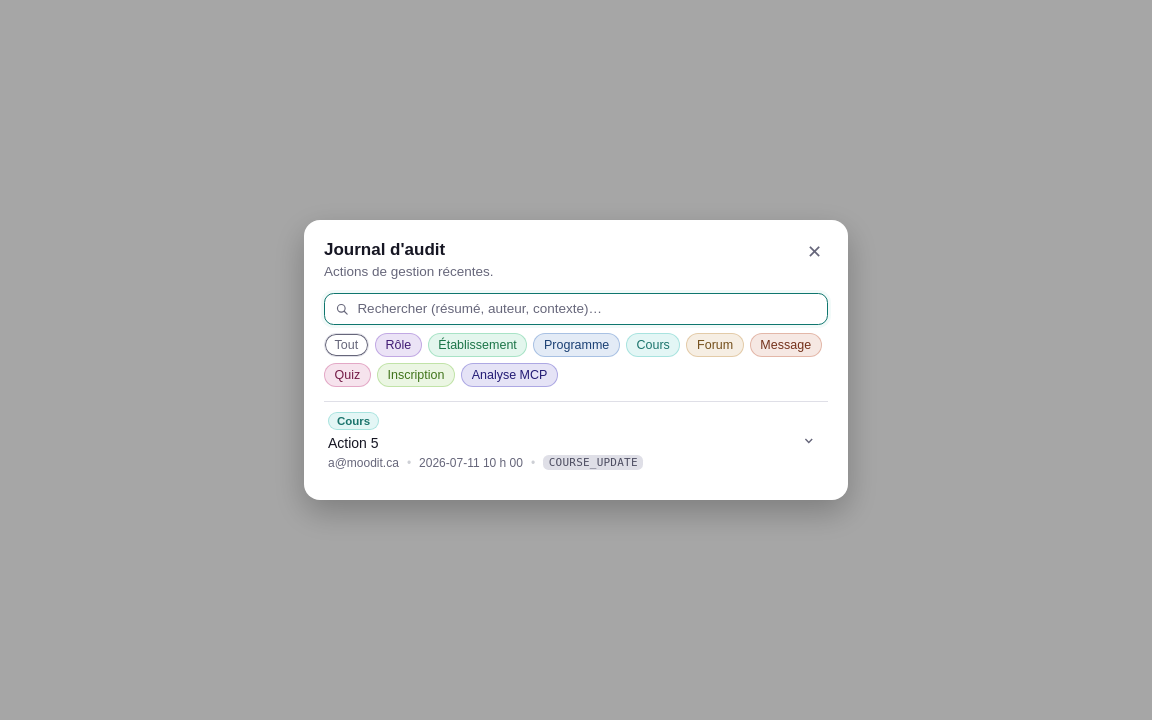
Test: AuditLogsPopup › cliquer une entrée déplie son contexte (details + identifiant)
The image size is (1152, 720).
Expected: the text "Action 5" is shown, [328,435,379,451]
Expected: the text "Programmes : Génie" is not shown
Click the button "Action 5". click: (354, 421)
box: [320,402,824,480]
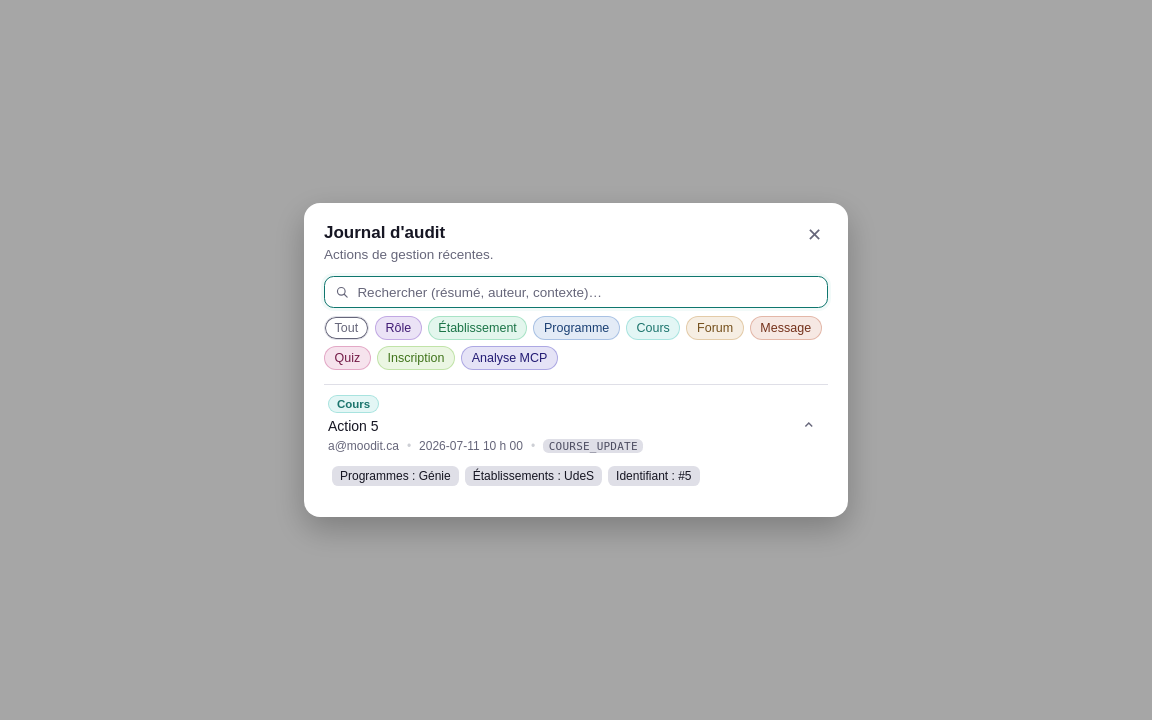
Expected: the text "Programmes : Génie" is shown, [332,466,459,486]
Expected: the text "Établissements : UdeS" is shown, [465,466,602,486]
Expected: the text "Identifiant : #5" is shown, [608,466,700,486]
Click the button "Action 5". click: (354, 404)
box: [320,385,824,464]
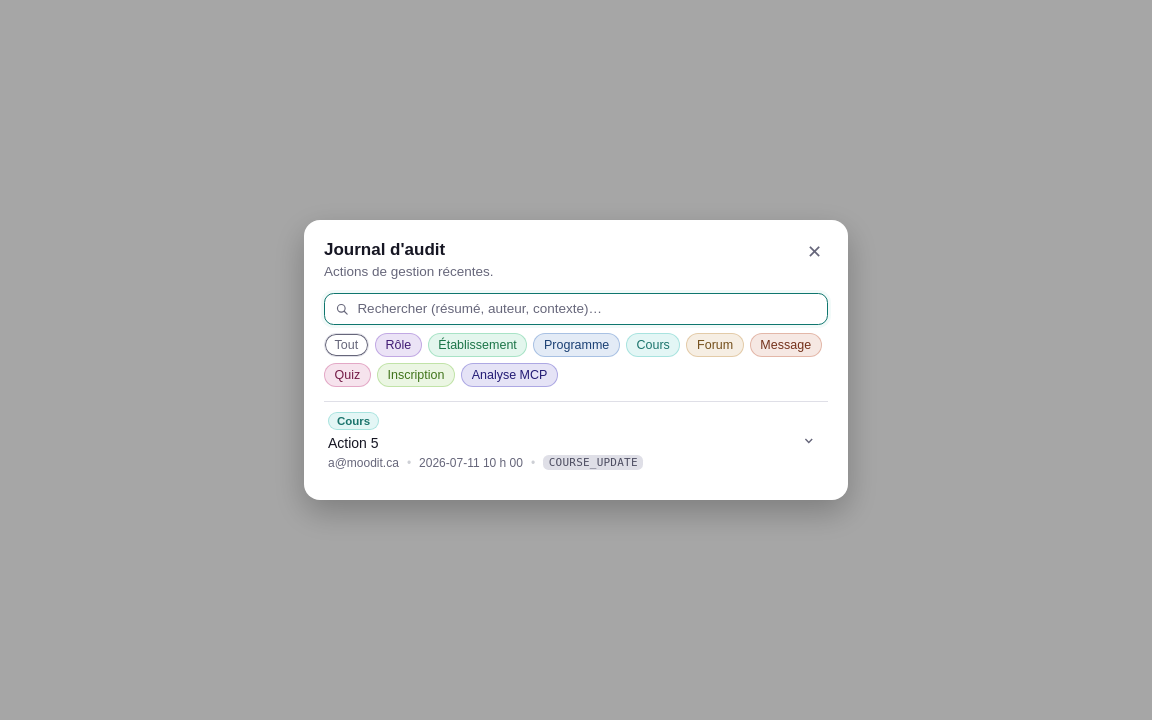
Expected: the text "Programmes : Génie" is gone
